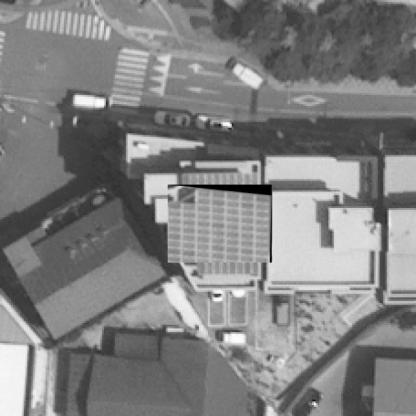solar-pv-panel: (168, 187, 272, 263)
